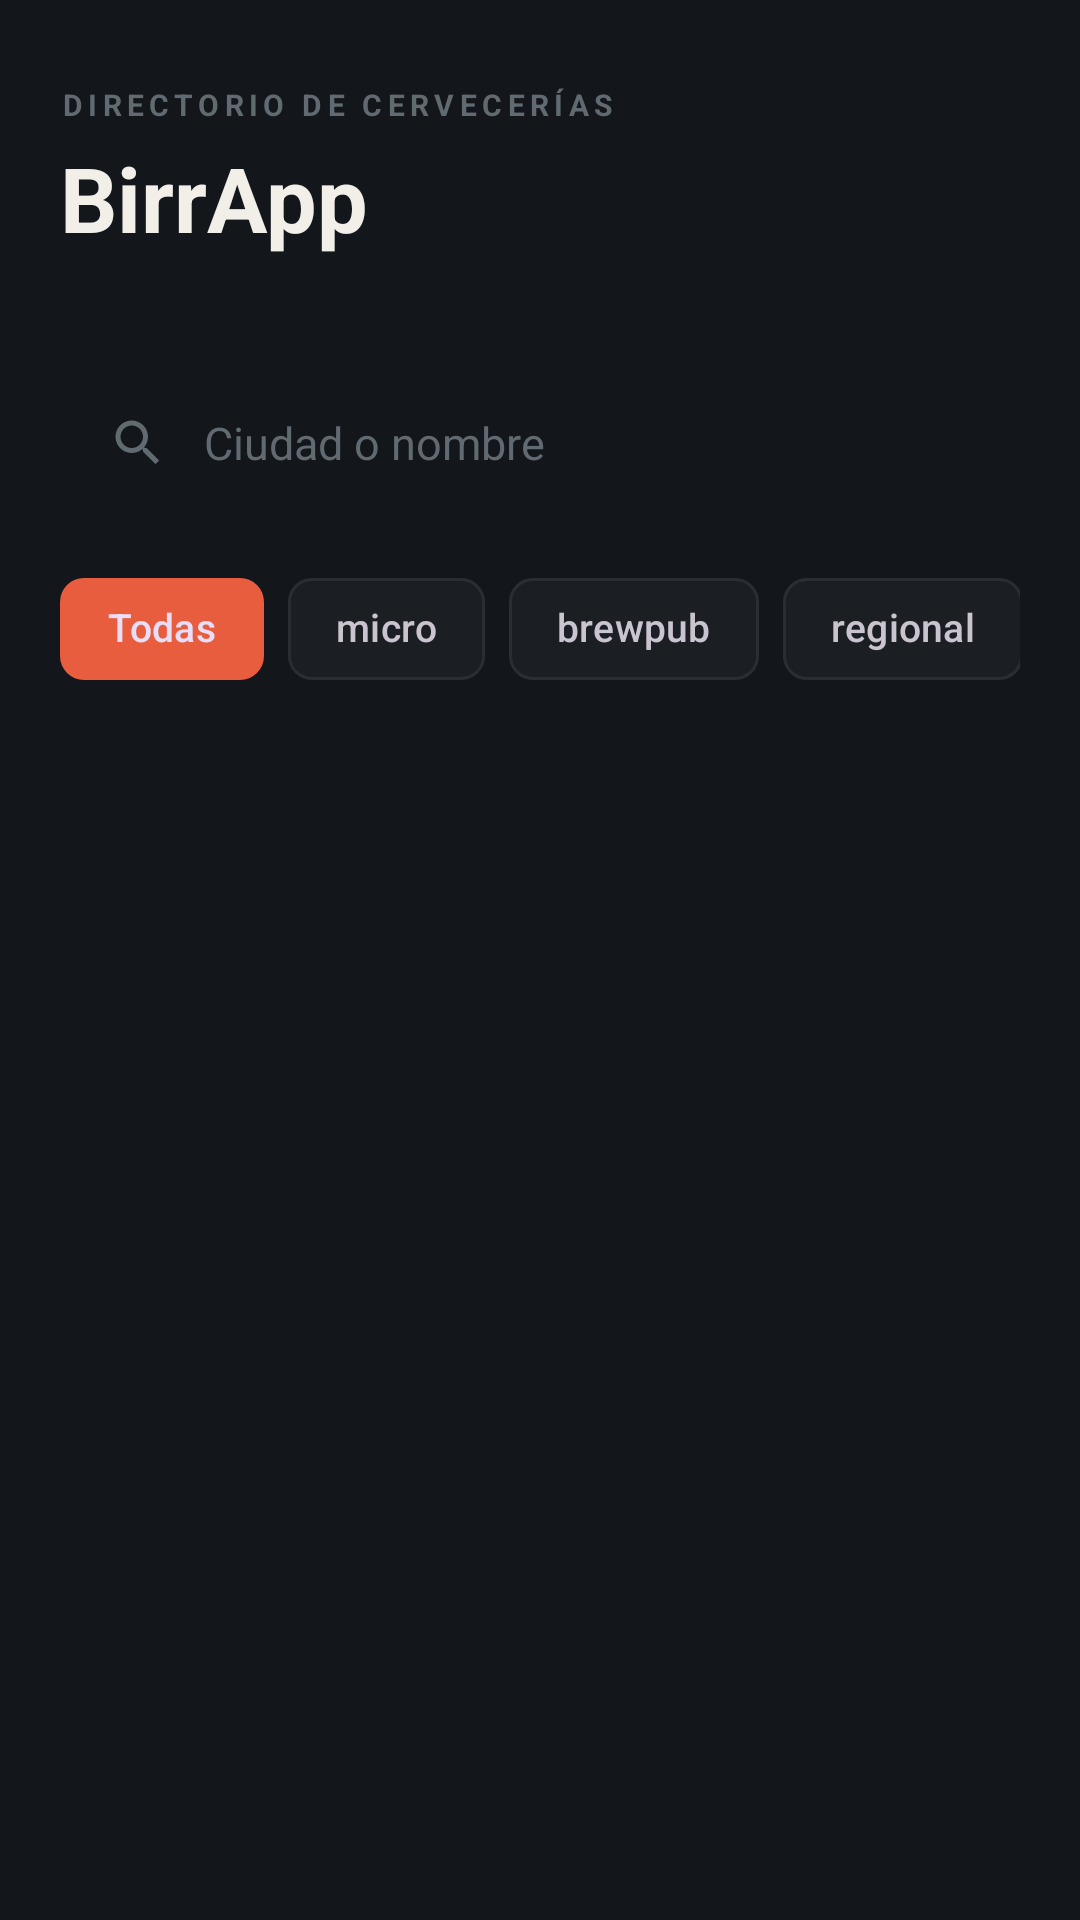

Icon bounding boxes for this 1080w x 1920h phone screenshot, format [x1, y1, x2, y2]:
Buscar: [115, 420, 159, 464]
